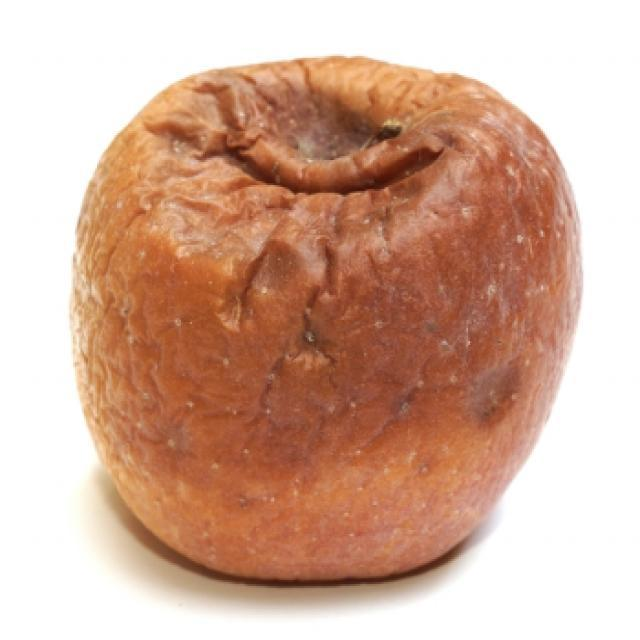Rotten: (89, 58, 558, 570)
